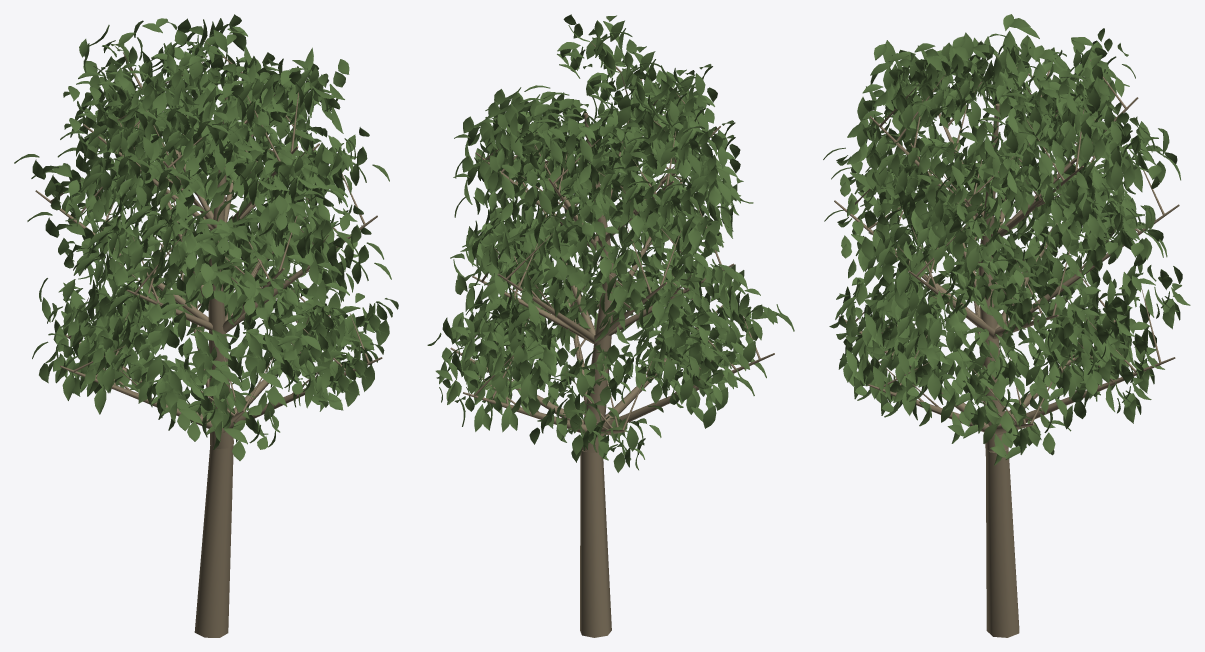
Rendered from broadleaf-tree.gltf.
3 renders of one model, left to right at view 1: azimuth 30°, elevation 25°; view 2: azimuth 150°, elevation 25°; view 3: azimuth 270°, elevation 25°, orthographic. The views are drawn at different scales.
Parts seen in each view (by area): view 1: broadleaf-tree; view 2: broadleaf-tree; view 3: broadleaf-tree.
Part boxes in pixels (x1,y1,x2,y2): broadleaf-tree: (14,14,398,637); broadleaf-tree: (427,14,794,637); broadleaf-tree: (823,14,1190,637).
Size of the model in its own units: 5.92 by 10.71 by 6.02.
